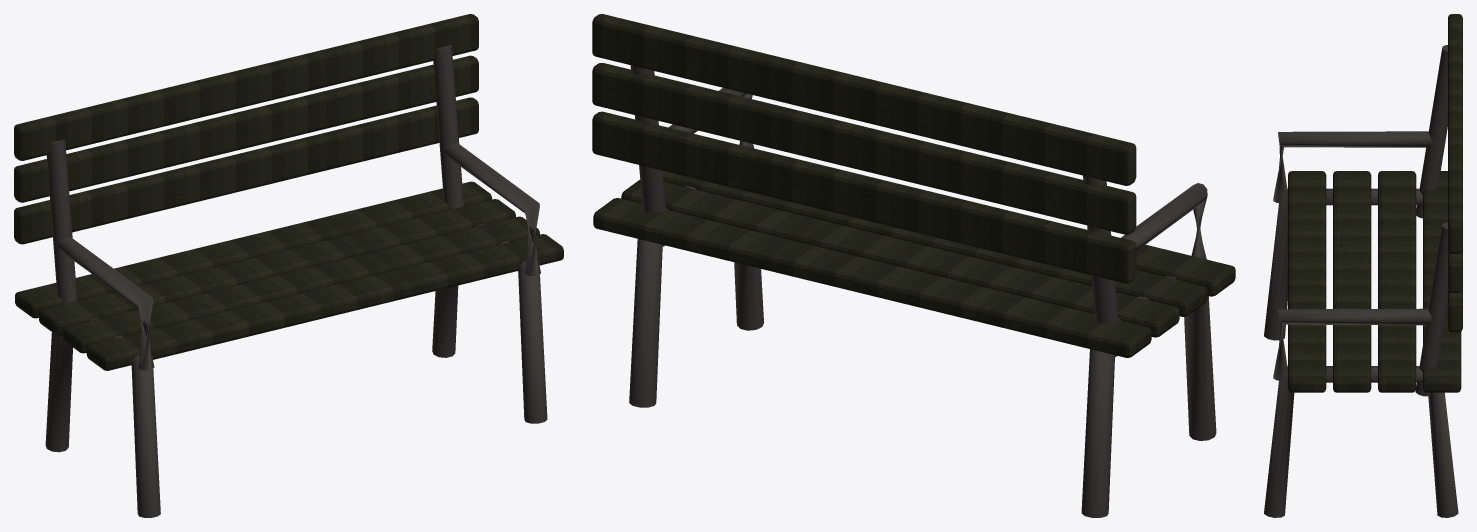
Rendered from MS_SP_12_StreetBench.glb.
3 renders of one model, left to right at view 1: azimuth 30°, elevation 25°; view 2: azimuth 150°, elevation 25°; view 3: azimuth 270°, elevation 25°, orthographic. The views are drawn at different scales.
Visible parts, largest first — view 1: BackSlat, ArmRest; view 2: BackSlat, ArmRest; view 3: BackSlat, ArmRest.
Part boxes in pixels (x1,y1,x2,y2): BackSlat: (14, 14, 563, 370); ArmRest: (45, 45, 547, 517); BackSlat: (592, 14, 1235, 357); ArmRest: (629, 65, 1216, 517); BackSlat: (1288, 14, 1462, 392); ArmRest: (1264, 45, 1458, 517).
Bounding box in the file's own units: 1.5 × 1.02 × 0.5963.
Materials: 2 (1 with a texture image).
